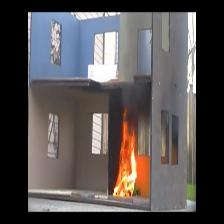fire: (114, 151, 136, 196)
smoke: (112, 88, 146, 106)
